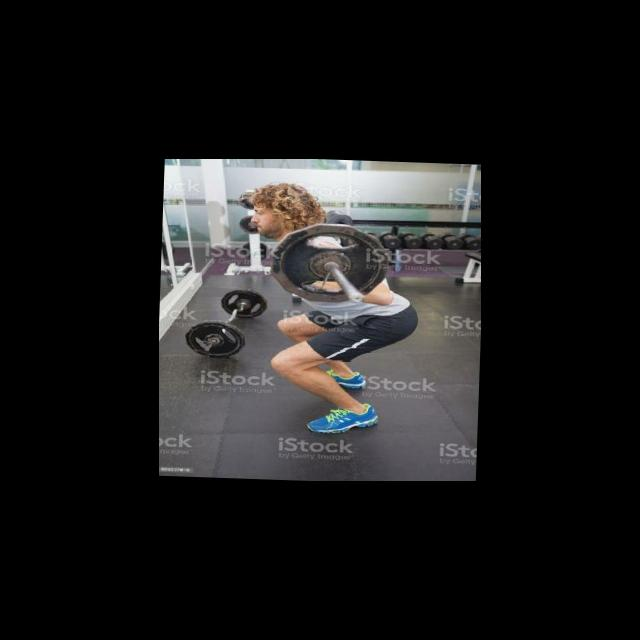barbell: (264, 215, 394, 313)
